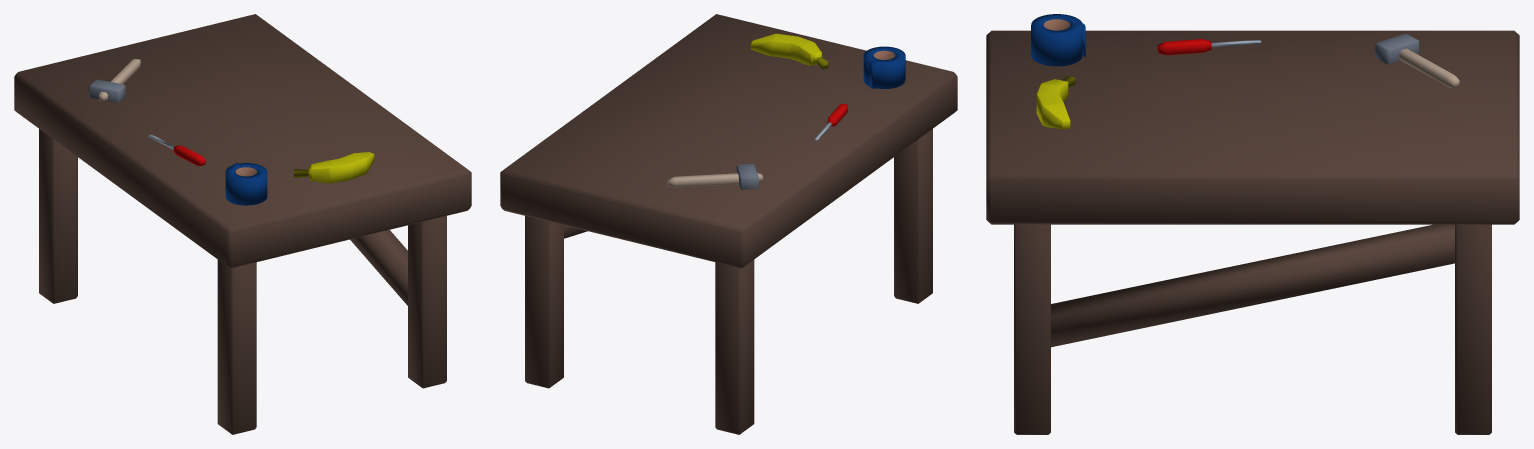
Rendered from workbench.fbx.
3 views of the same model, side by side, from view 1: azimuth 30°, elevation 25°; view 2: azimuth 150°, elevation 25°; view 3: azimuth 270°, elevation 25° (orthographic). The views are drawn at different scales.
Visible parts, largest first — view 1: wokbench; view 2: wokbench; view 3: wokbench.
Boxes of the visible parts, x1,y1,x2,y2 form: wokbench: (14,14,471,434); wokbench: (500,14,957,434); wokbench: (986,14,1519,434).
Bounding box in the file's own units: 464 × 303 × 288.
